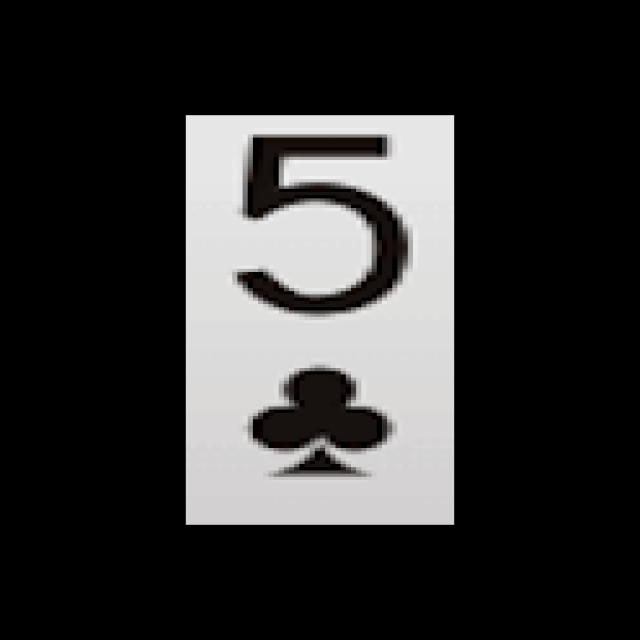5C: (208, 125, 434, 492)
